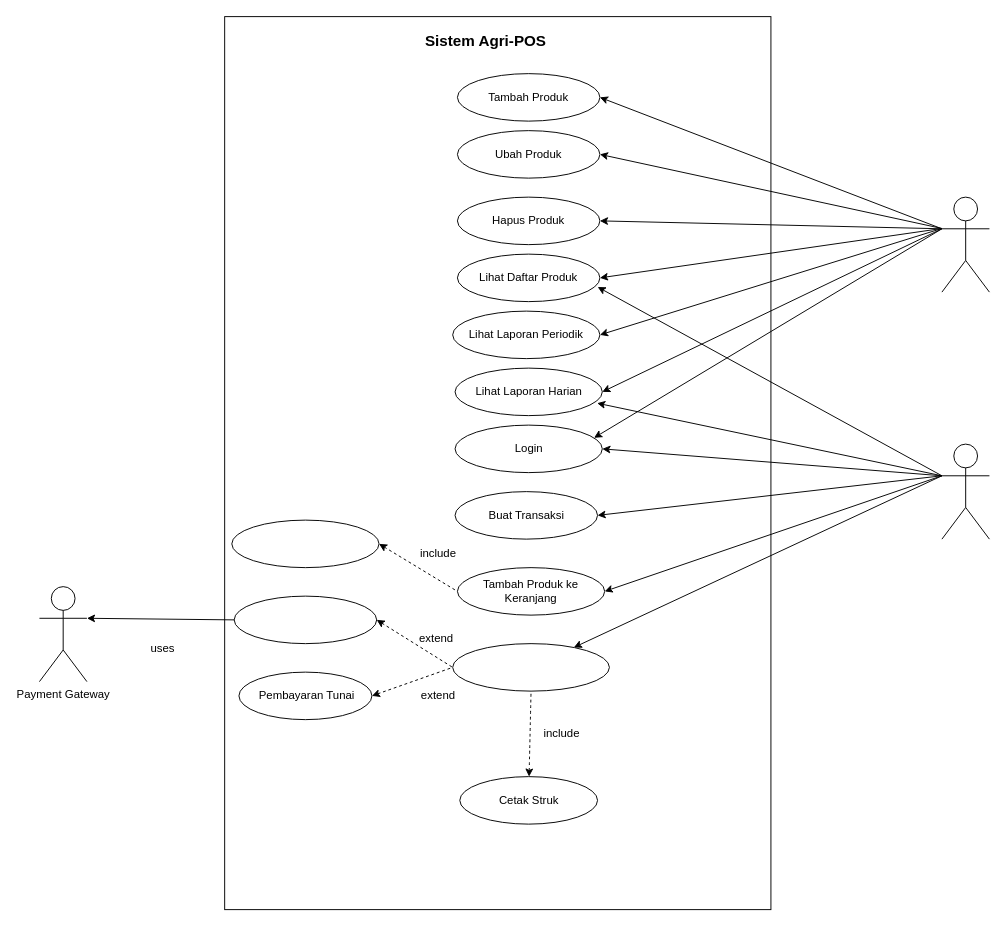
This 1006x926 diagram has some shape labels left out. The box of each missing label's shape, as (x1, y1, x2, y2) in pixels:
Admin: (941, 196, 989, 292)
Hitung Total: (231, 519, 379, 568)
Kasir: (941, 443, 989, 539)
Pembayaran E-Wallet: (233, 595, 377, 644)
Selesaikan Pembayaran (Checkout): (452, 643, 609, 691)
